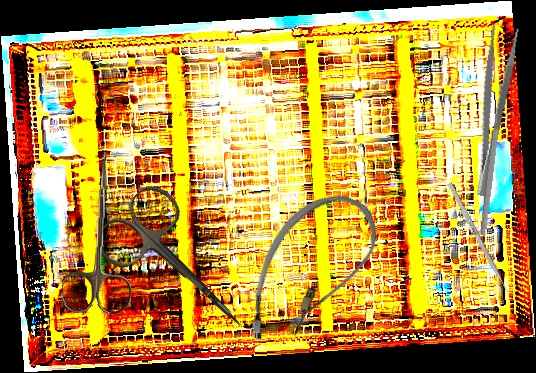Cannula: (230, 175, 391, 369)
Dressing Forceps: (458, 23, 523, 198)
Iris Scissors: (88, 176, 272, 360), (61, 150, 136, 315)
Pusher: (447, 182, 515, 303)
Surgical Spoon: (478, 84, 506, 236)
